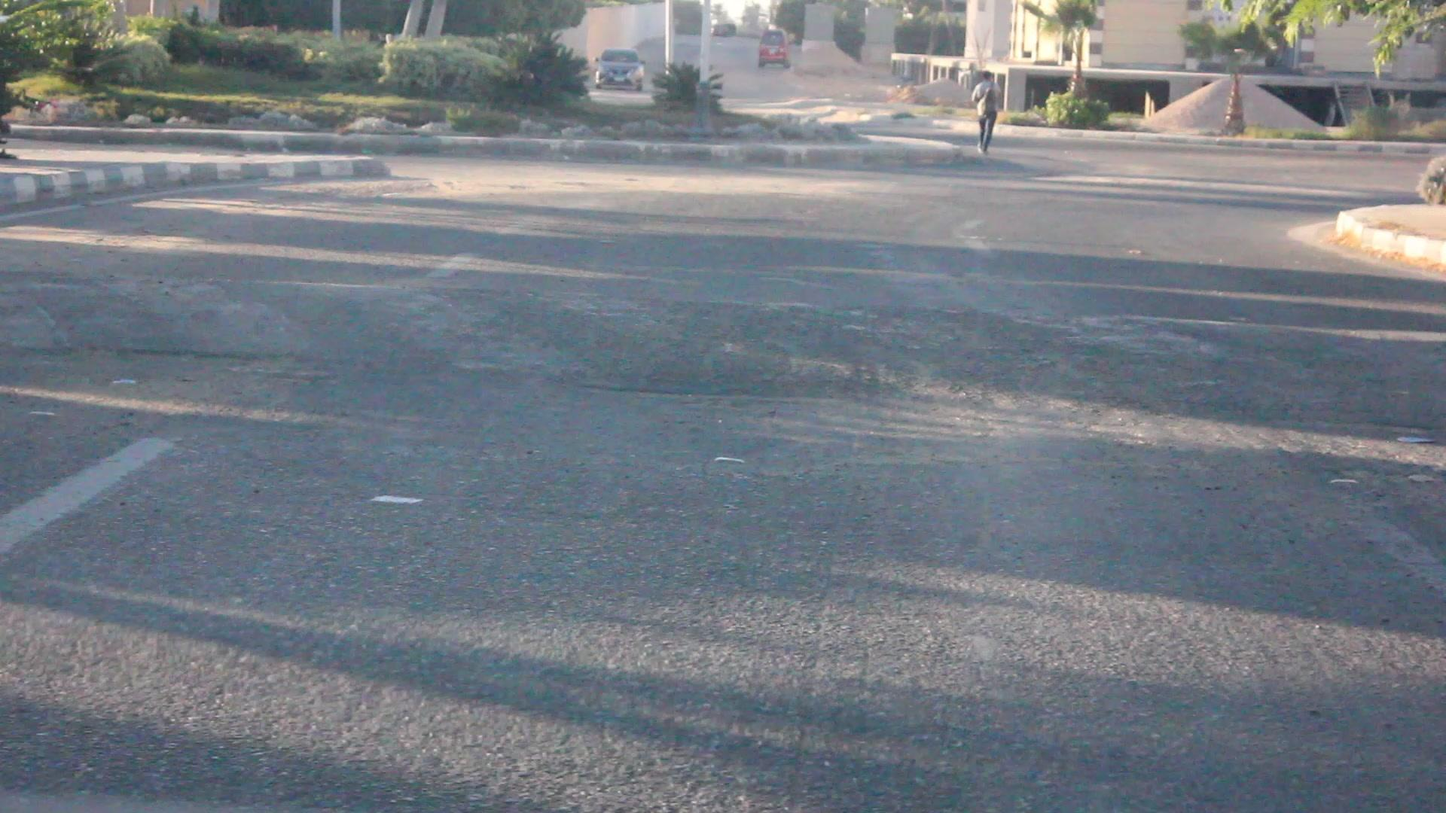Bump: (6, 271, 1446, 448)
